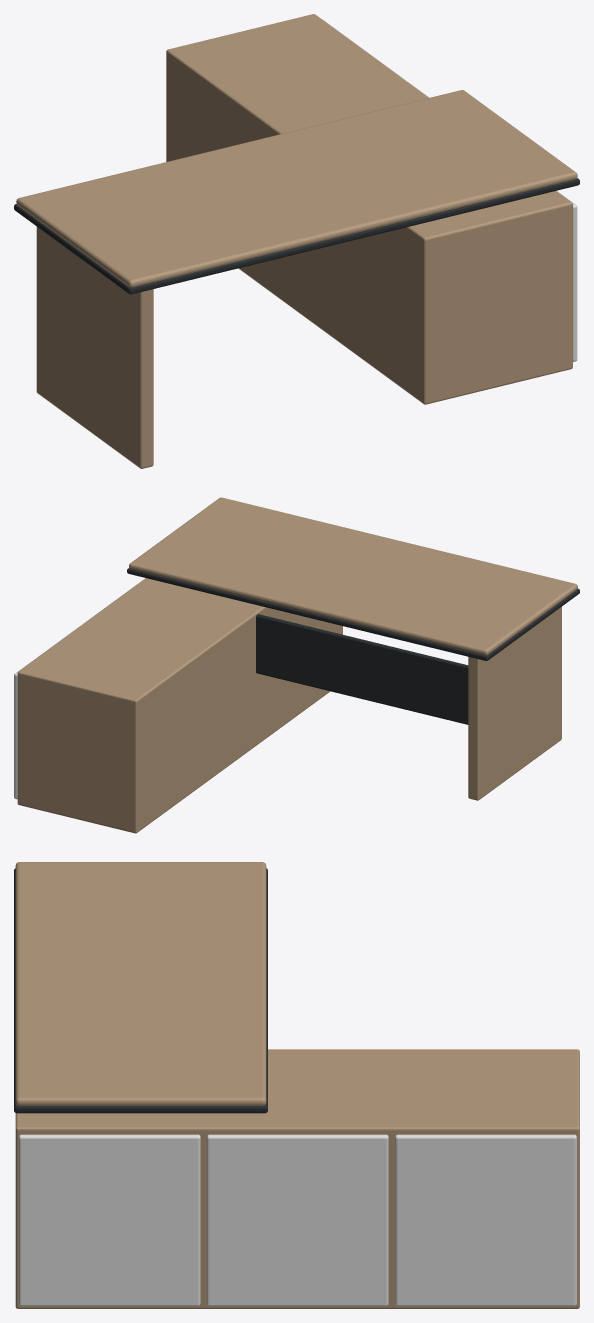
Rendered from 01_经理桌_独立办公室.glb.
3 views of the same model, one above another, from view 1: azimuth 30°, elevation 25°; view 2: azimuth 150°, elevation 25°; view 3: azimuth 270°, elevation 25° (orthographic). The views are drawn at different scales.
Parts seen in each view (by area): view 1: 侧柜柜体, 经理桌台面, 左侧支撑板, 黑色桌面边框, 白色柜门; view 2: 侧柜柜体, 经理桌台面, 桌下挡板, 左侧支撑板, 黑色桌面边框, 白色柜门.002; view 3: 经理桌台面, 侧柜柜体, 白色柜门, 白色柜门.002, 白色柜门.001, 黑色桌面边框.
Boxes of the visible parts, bbox=[...] form: 侧柜柜体: bbox=[166, 14, 572, 404]; 经理桌台面: bbox=[16, 90, 577, 287]; 左侧支撑板: bbox=[36, 227, 153, 468]; 黑色桌面边框: bbox=[14, 178, 579, 294]; 白色柜门: bbox=[556, 190, 577, 361]; 侧柜柜体: bbox=[17, 578, 342, 833]; 经理桌台面: bbox=[129, 497, 577, 655]; 桌下挡板: bbox=[256, 614, 468, 724]; 左侧支撑板: bbox=[468, 606, 561, 800]; 黑色桌面边框: bbox=[127, 568, 579, 660]; 白色柜门.002: bbox=[14, 626, 79, 799]; 经理桌台面: bbox=[15, 862, 266, 1105]; 侧柜柜体: bbox=[15, 1049, 579, 1308]; 白色柜门: bbox=[18, 1134, 200, 1306]; 白色柜门.002: bbox=[395, 1134, 576, 1306]; 白色柜门.001: bbox=[207, 1134, 388, 1306]; 黑色桌面边框: bbox=[14, 868, 267, 1113].
Size of the model in its own units: 1.81 by 0.75 by 1.8.
